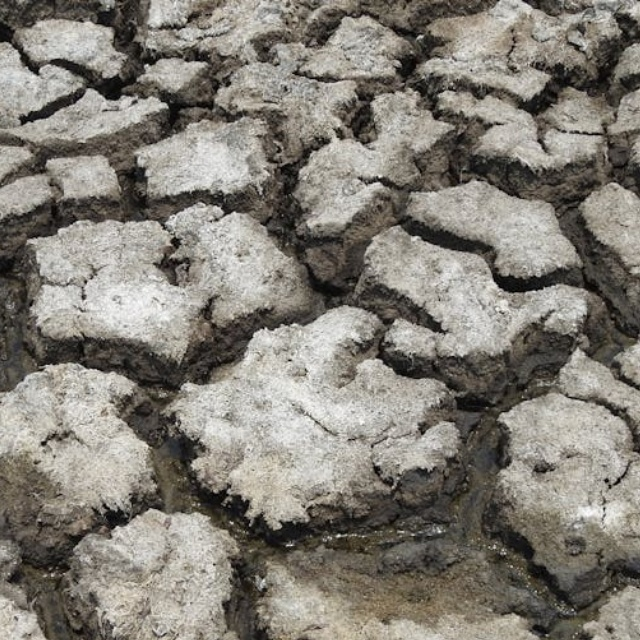深大裂缝: (0, 449, 436, 640), (0, 32, 166, 509), (480, 126, 640, 593)
